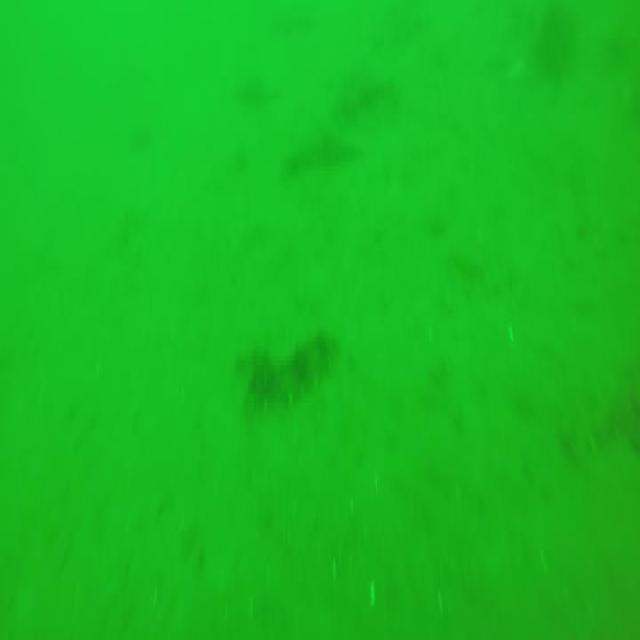holothurian: (238, 335, 342, 403), (558, 382, 640, 463)
